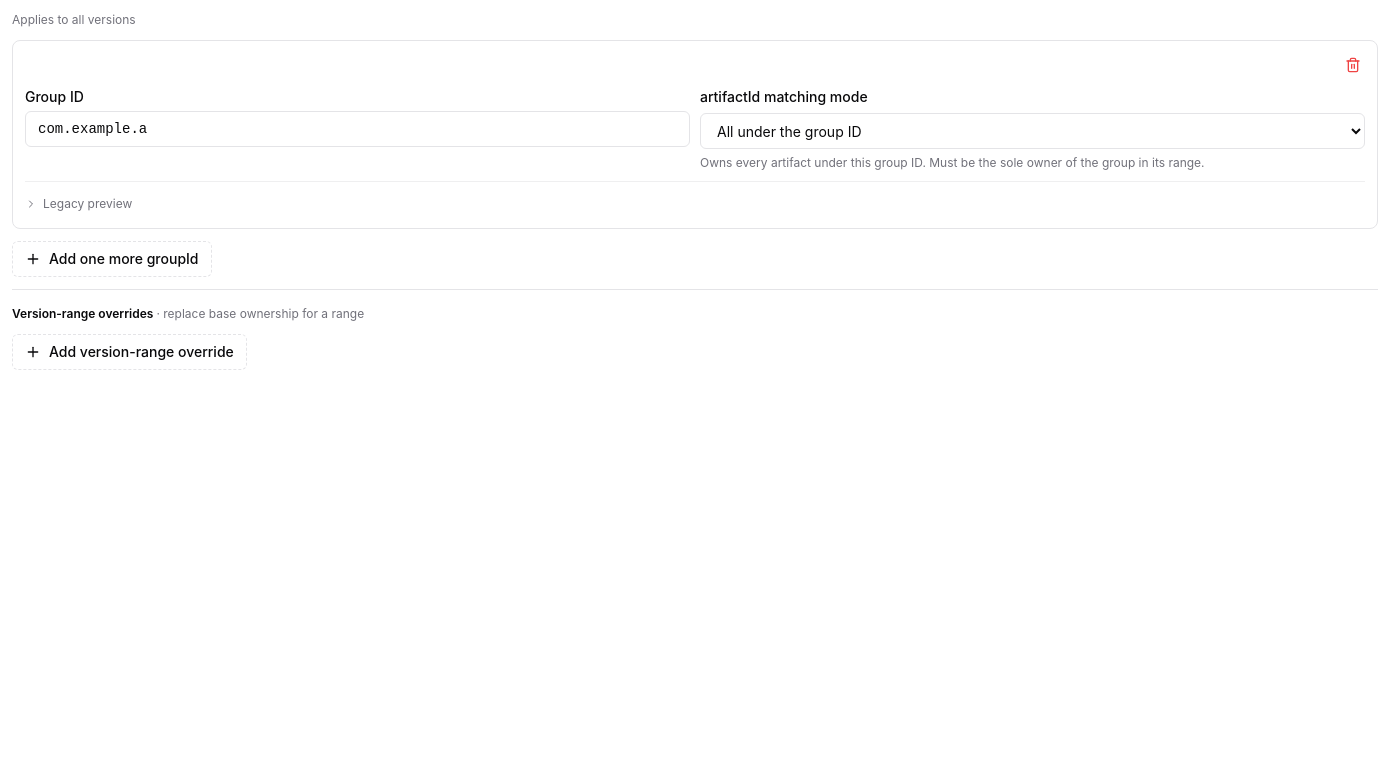
ArtifactOwnershipEditor › auto-splits a comma group-list into one row per groupId on blur (one groupId per row)
The image size is (1378, 780).
Note: Type a comma-separated list, then blur — the row must fan out to one row per groupId.
Replace the text in the field labelled "Group ID" with "com.example.a,com.example.b" at (358, 129), box [25,111,690,147]
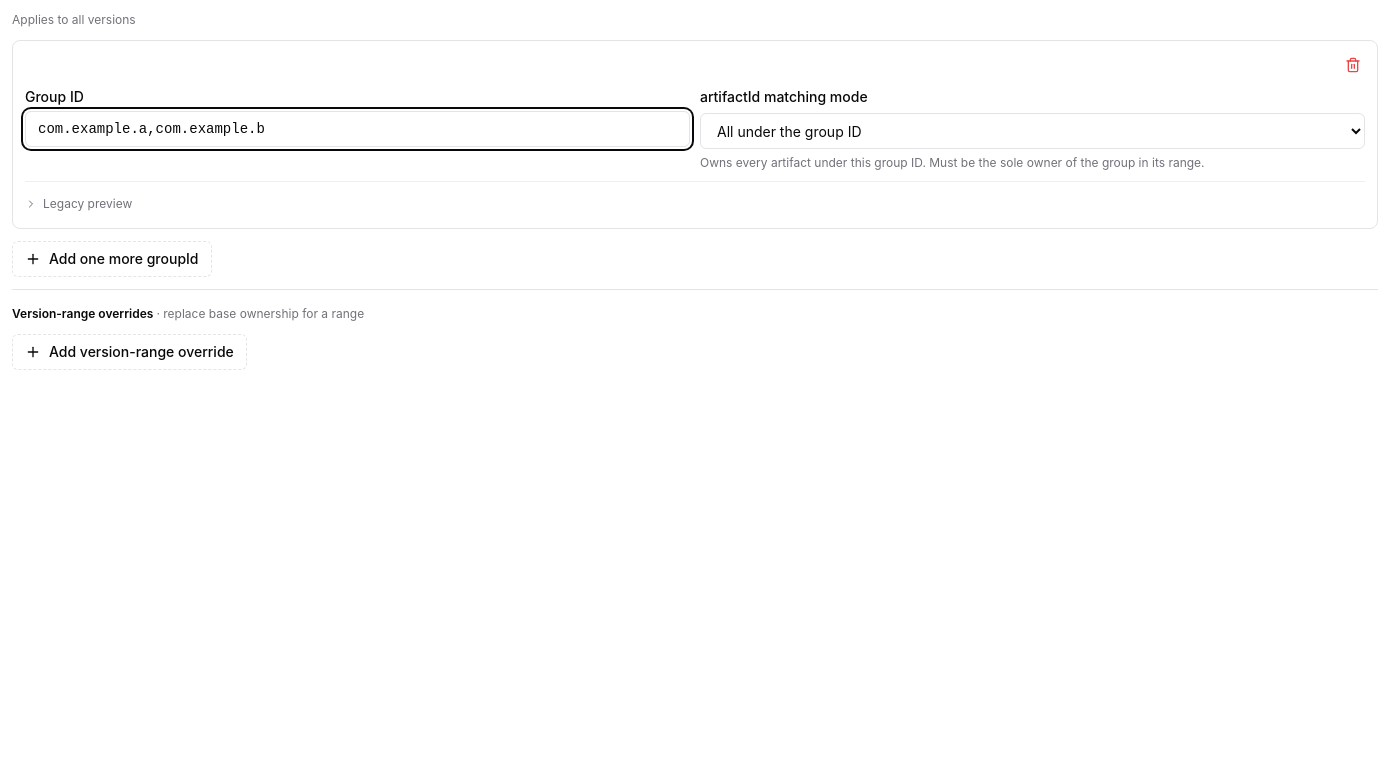
Leave the field labelled "Group ID", box [25,111,690,147]
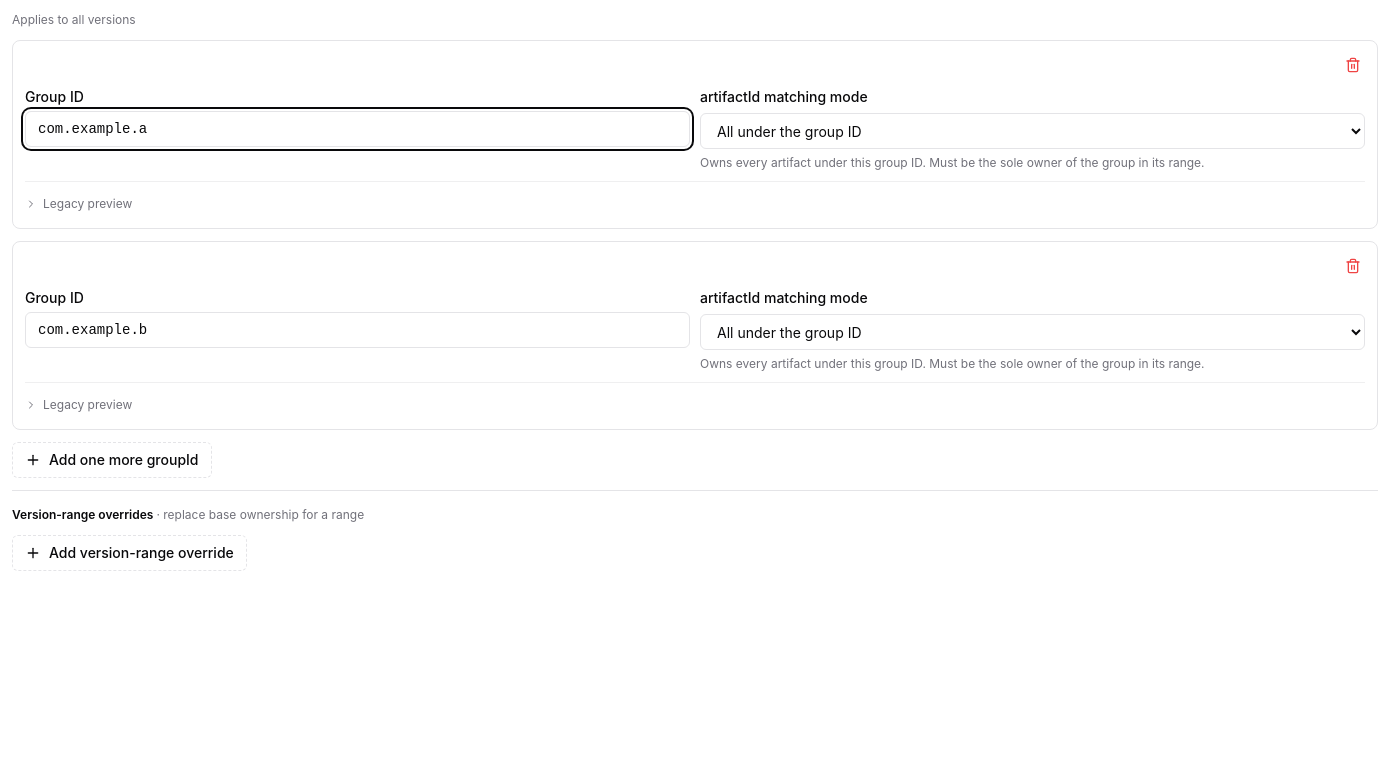
Expected: the number of fields labelled "Group ID" is 2, [25,111,690,147]; [25,312,690,348]
